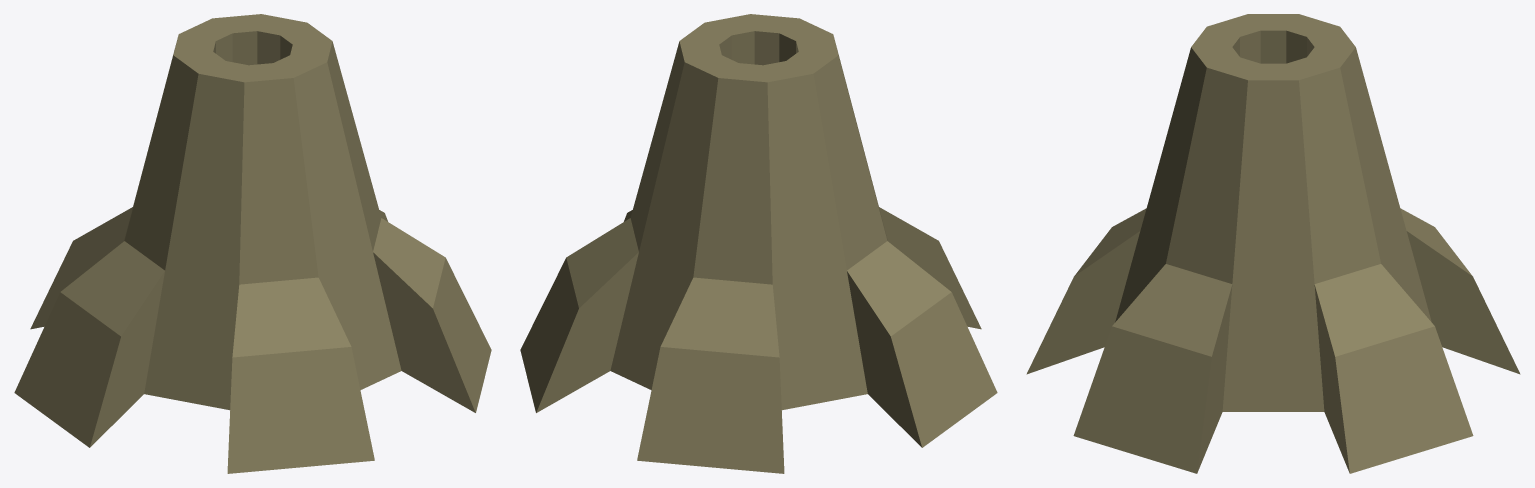
The model's file is planetCannon.fbx.
3 renders of one model, left to right at view 1: azimuth 30°, elevation 25°; view 2: azimuth 150°, elevation 25°; view 3: azimuth 270°, elevation 25°, orthographic.
Parts seen in each view (by area): view 1: Cylinder; view 2: Cylinder; view 3: Cylinder.
Boxes of the visible parts, x1,y1,x2,y2 form: Cylinder: (14, 14, 491, 473); Cylinder: (520, 14, 997, 473); Cylinder: (1026, 14, 1520, 473).
Size of the model in its own units: 285 by 219 by 300.
